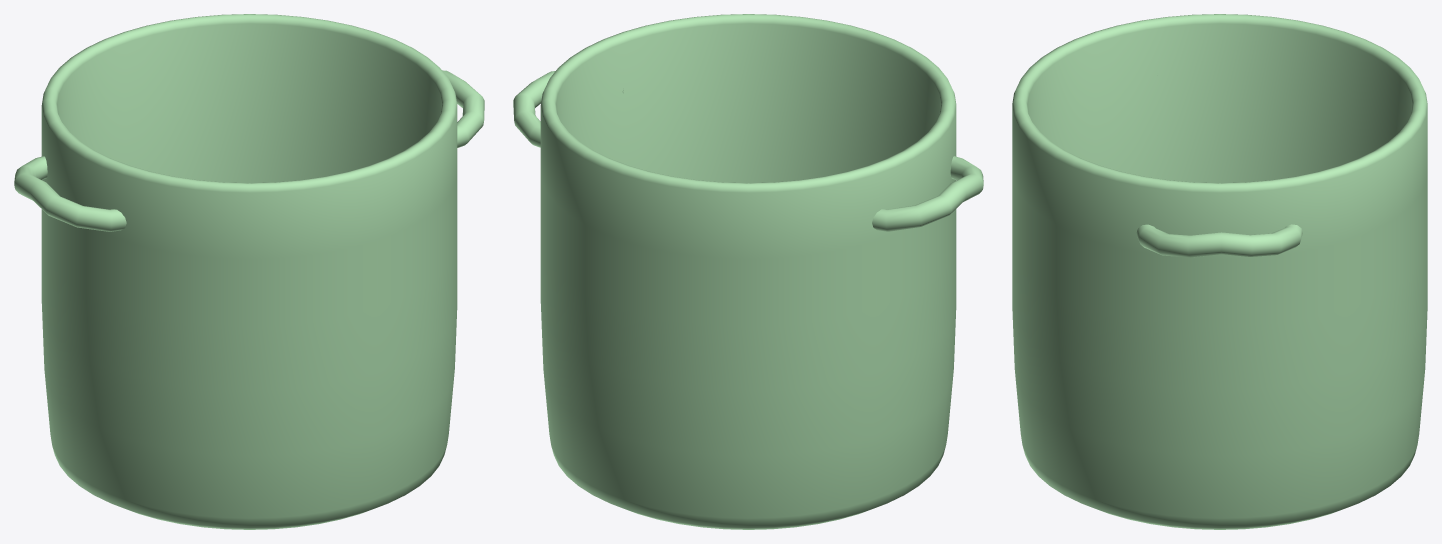
Rendered from pot.fbx.
3 renders of one model, left to right at view 1: azimuth 30°, elevation 25°; view 2: azimuth 150°, elevation 25°; view 3: azimuth 270°, elevation 25°, orthographic.
Parts seen in each view (by area): view 1: Cylinder; view 2: Cylinder; view 3: Cylinder.
Boxes of the visible parts, left/top/right/bottom form: Cylinder: left=14, top=14, right=484, bottom=529; Cylinder: left=513, top=14, right=983, bottom=529; Cylinder: left=1012, top=14, right=1427, bottom=529.
Bounding box in the file's own units: 131 × 101 × 108.
